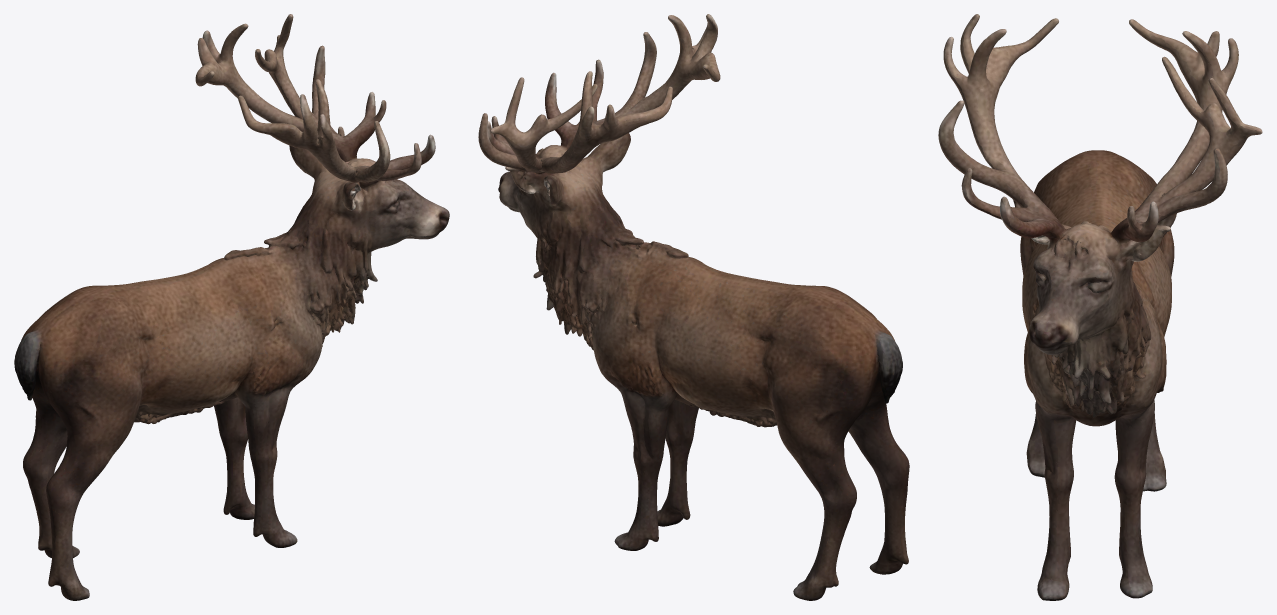
Rendered from red-deer-stag-v21.glb.
The picture shows the model from 3 angles, left to right: view 1: azimuth 30°, elevation 25°; view 2: azimuth 150°, elevation 25°; view 3: azimuth 270°, elevation 25°; orthographic projection. The views are drawn at different scales.
Parts seen in each view (by area): view 1: world; view 2: world; view 3: world.
Boxes of the visible parts, left/top/right/bottom form: world: left=14, top=14, right=449, bottom=600; world: left=478, top=14, right=909, bottom=600; world: left=938, top=14, right=1262, bottom=600.
Bounding box in the file's own units: 2.5 × 2.77 × 1.42.
Materials: 1 (1 with a texture image).
